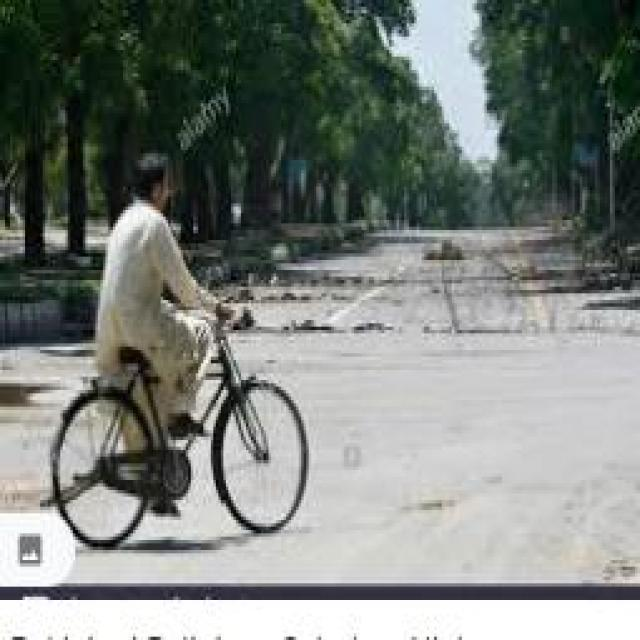bicycle: (49, 334, 313, 548)
